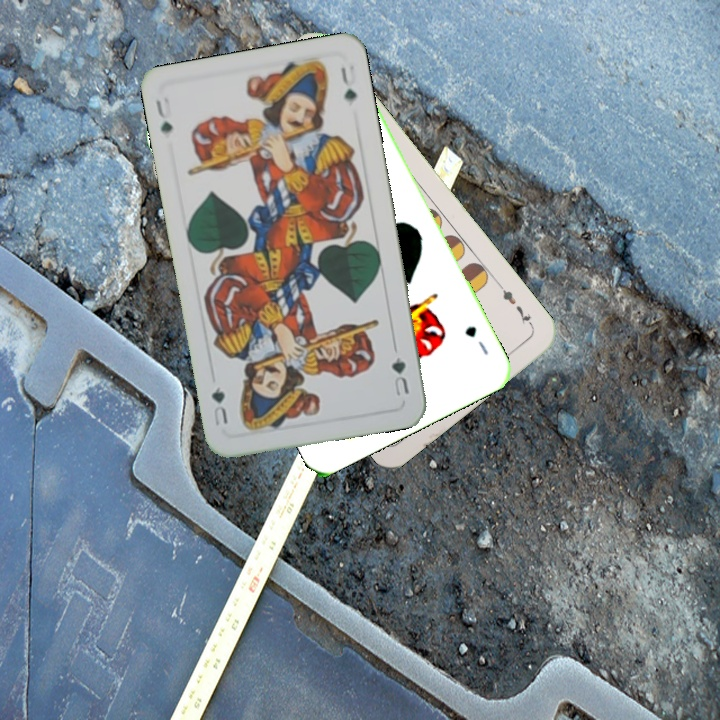E7: (494, 280, 536, 330)
GU: (387, 351, 412, 399), (461, 322, 491, 358), (151, 95, 175, 136)
